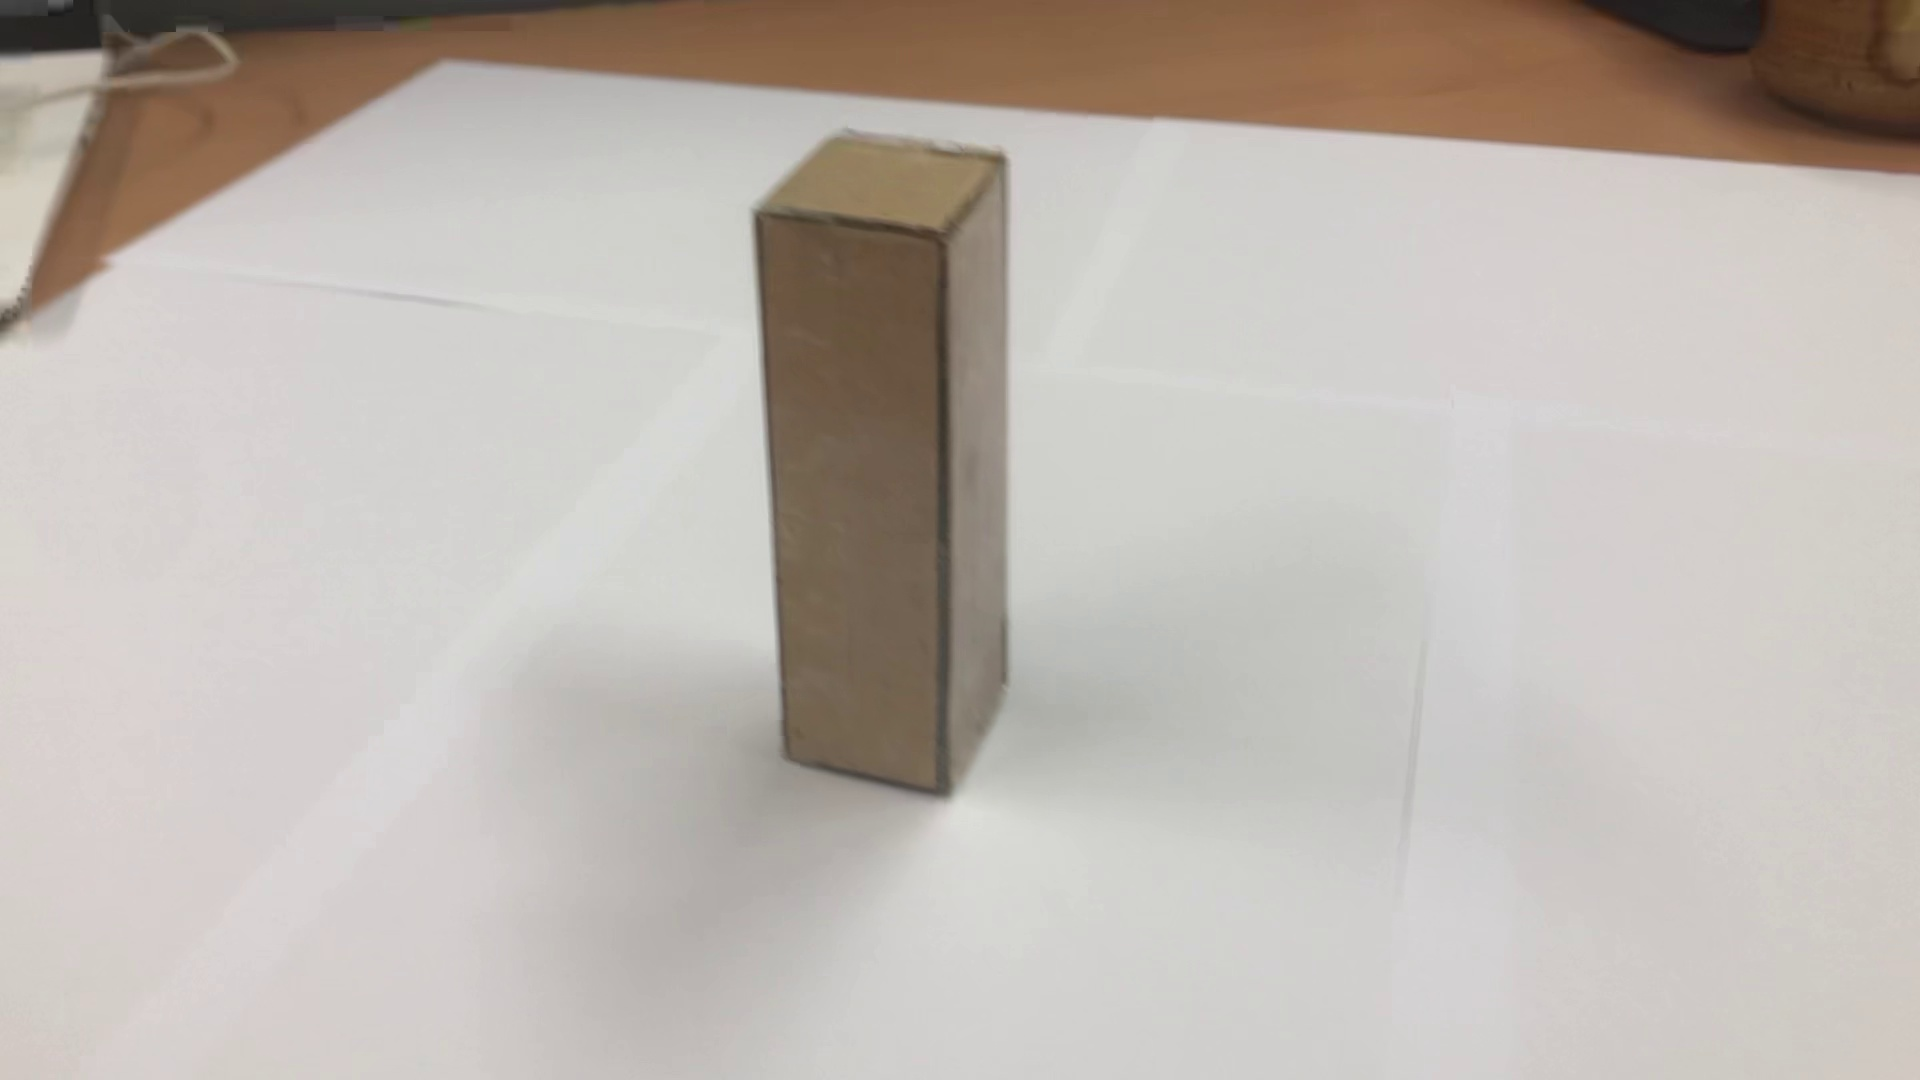box: (735, 105, 1055, 823)
